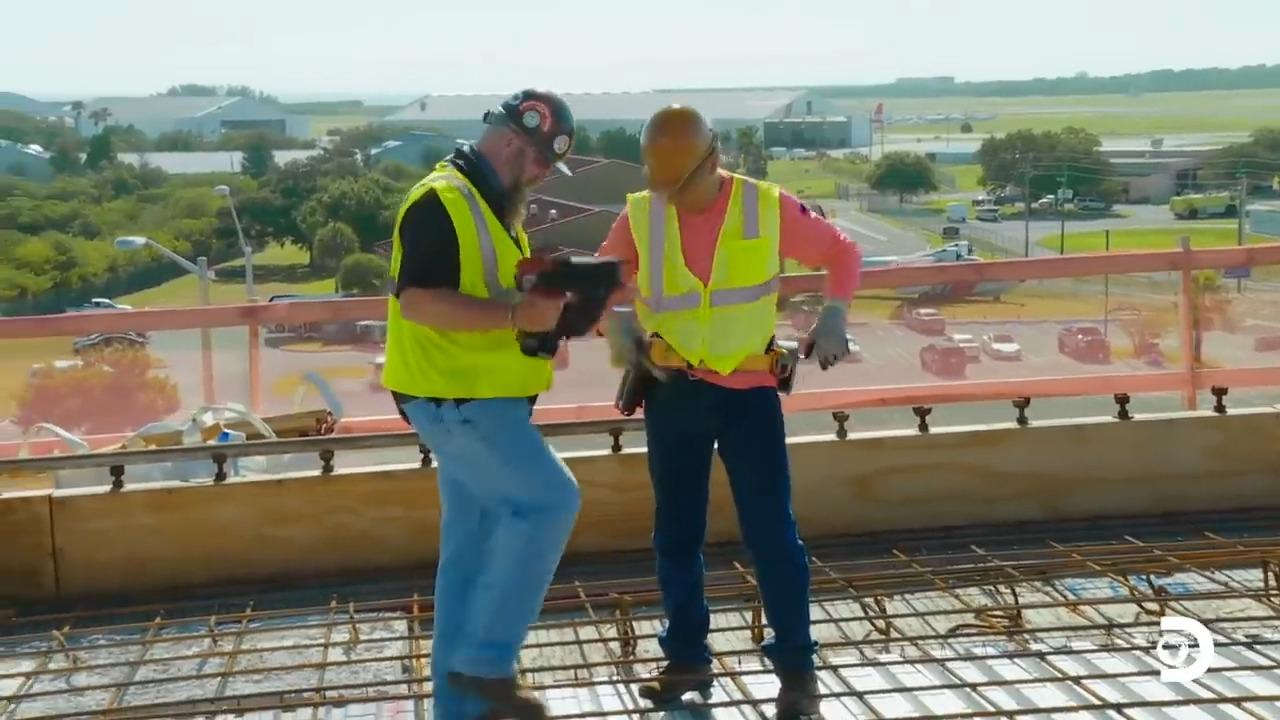Gloves: (800, 307, 855, 372)
Helmet: (635, 105, 724, 206), (482, 88, 575, 176)
Person: (593, 104, 863, 718), (379, 87, 619, 719)
Safety Boot: (439, 668, 544, 720), (630, 655, 713, 699), (771, 665, 825, 717)
Safety Vest: (393, 200, 532, 401), (626, 196, 778, 372)
bare-arms: (508, 289, 568, 332)
